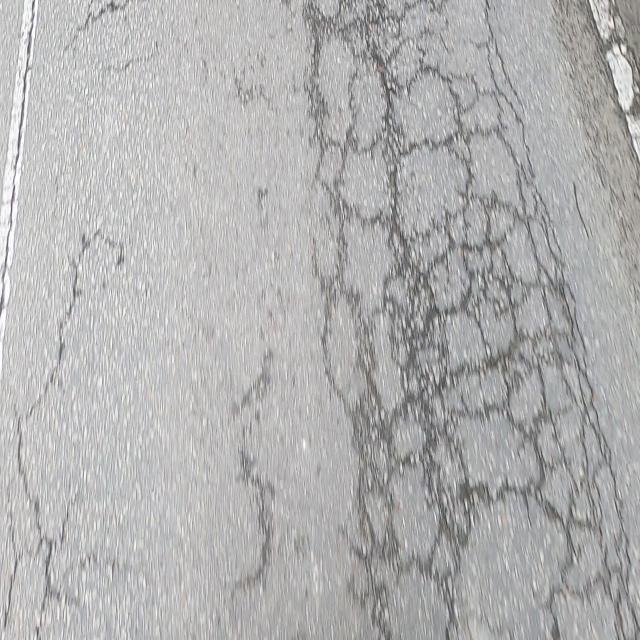Retak-Buaya: (305, 0, 640, 640)
Retak-Memanjang: (14, 220, 99, 638)
